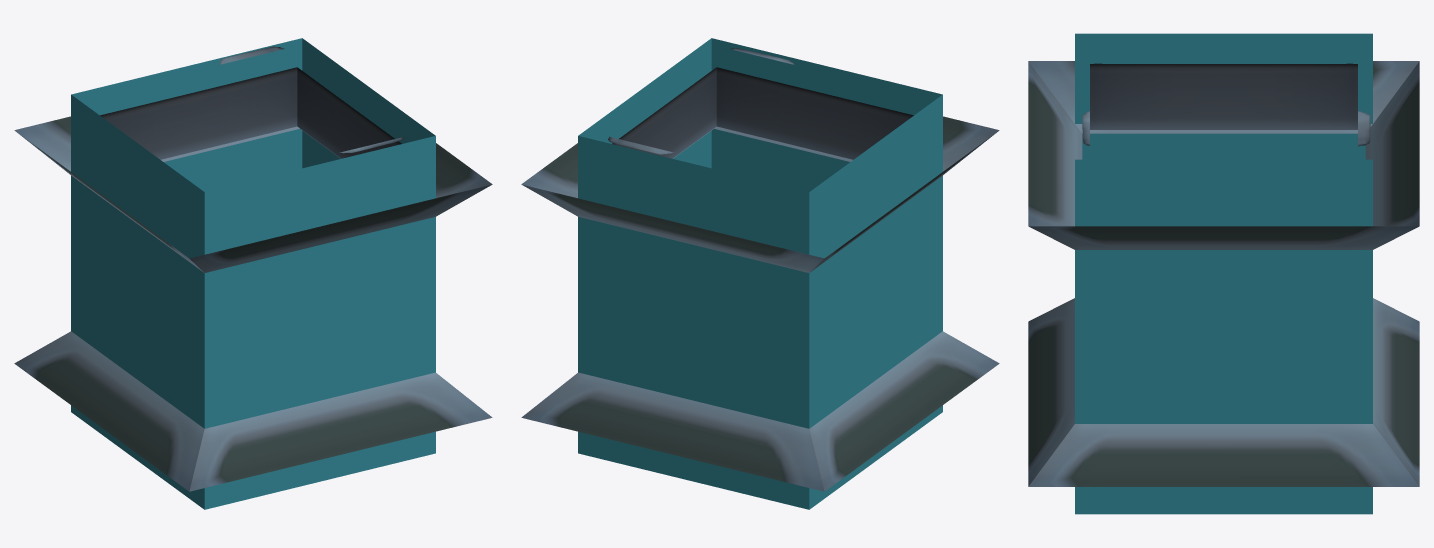
File: obj_interactive_pipe02_lod1.fbx
3 renders of one model, left to right at view 1: azimuth 30°, elevation 25°; view 2: azimuth 150°, elevation 25°; view 3: azimuth 270°, elevation 25°, orthographic. The views are drawn at different scales.
Visible parts, largest first — view 1: obj_interactive_pipe02_lod1; view 2: obj_interactive_pipe02_lod1; view 3: obj_interactive_pipe02_lod1.
Part boxes in pixels (x1,y1,x2,y2): obj_interactive_pipe02_lod1: (14, 38, 492, 509); obj_interactive_pipe02_lod1: (521, 38, 999, 509); obj_interactive_pipe02_lod1: (1028, 33, 1419, 514).
Bounding box in the file's own units: 2 × 2 × 2.
